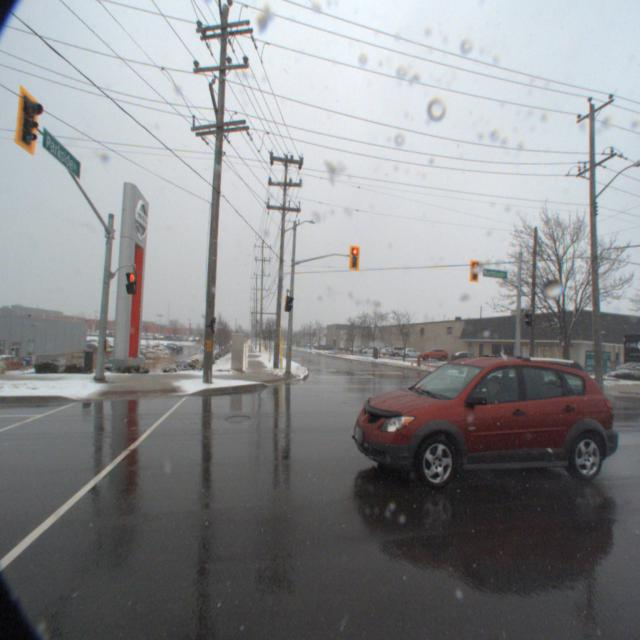Car: (447, 350, 485, 366), (415, 346, 448, 362)
